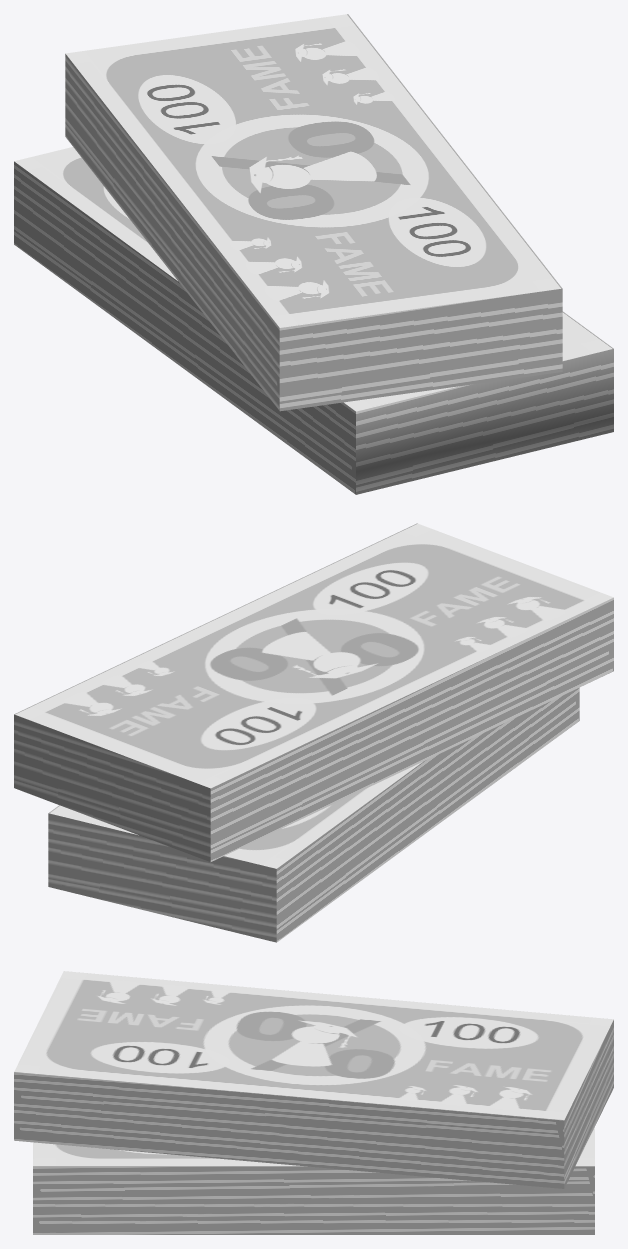
Rendered from Money.FBX.
The picture shows the model from 3 angles, top to bottom: view 1: azimuth 30°, elevation 25°; view 2: azimuth 150°, elevation 25°; view 3: azimuth 270°, elevation 25°; orthographic projection. The views are drawn at different scales.
Parts seen in each view (by area): view 1: Box002; view 2: Box002; view 3: Box002.
Part boxes in pixels (left/top/right/bottom): Box002: left=14, top=14, right=613, bottom=494; Box002: left=14, top=523, right=613, bottom=942; Box002: left=14, top=971, right=613, bottom=1234.
Size of the model in its own units: 11.87 by 20.12 by 5.08.
Materials: 1 (1 with a texture image).
